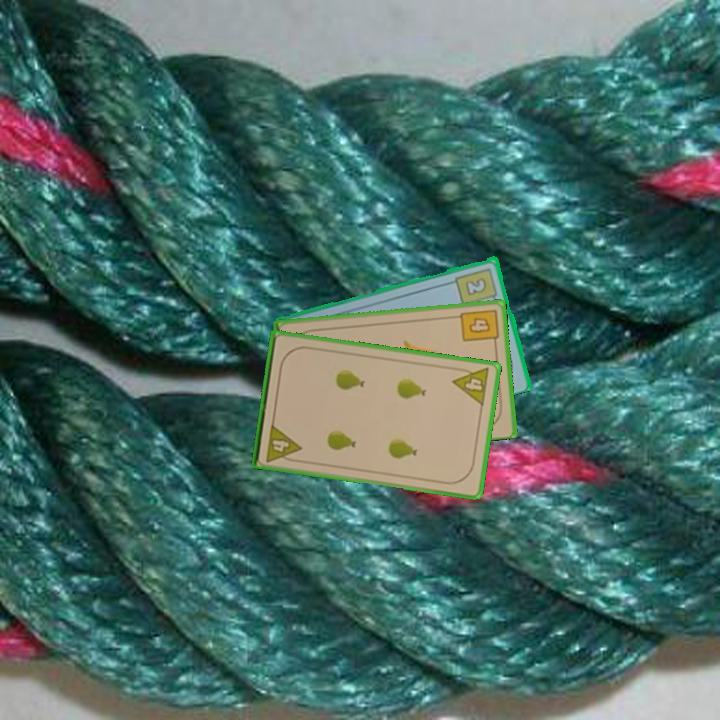2b: (452, 264, 501, 308)
4b: (457, 306, 501, 348)
4p: (449, 363, 492, 409), (262, 420, 304, 465)
